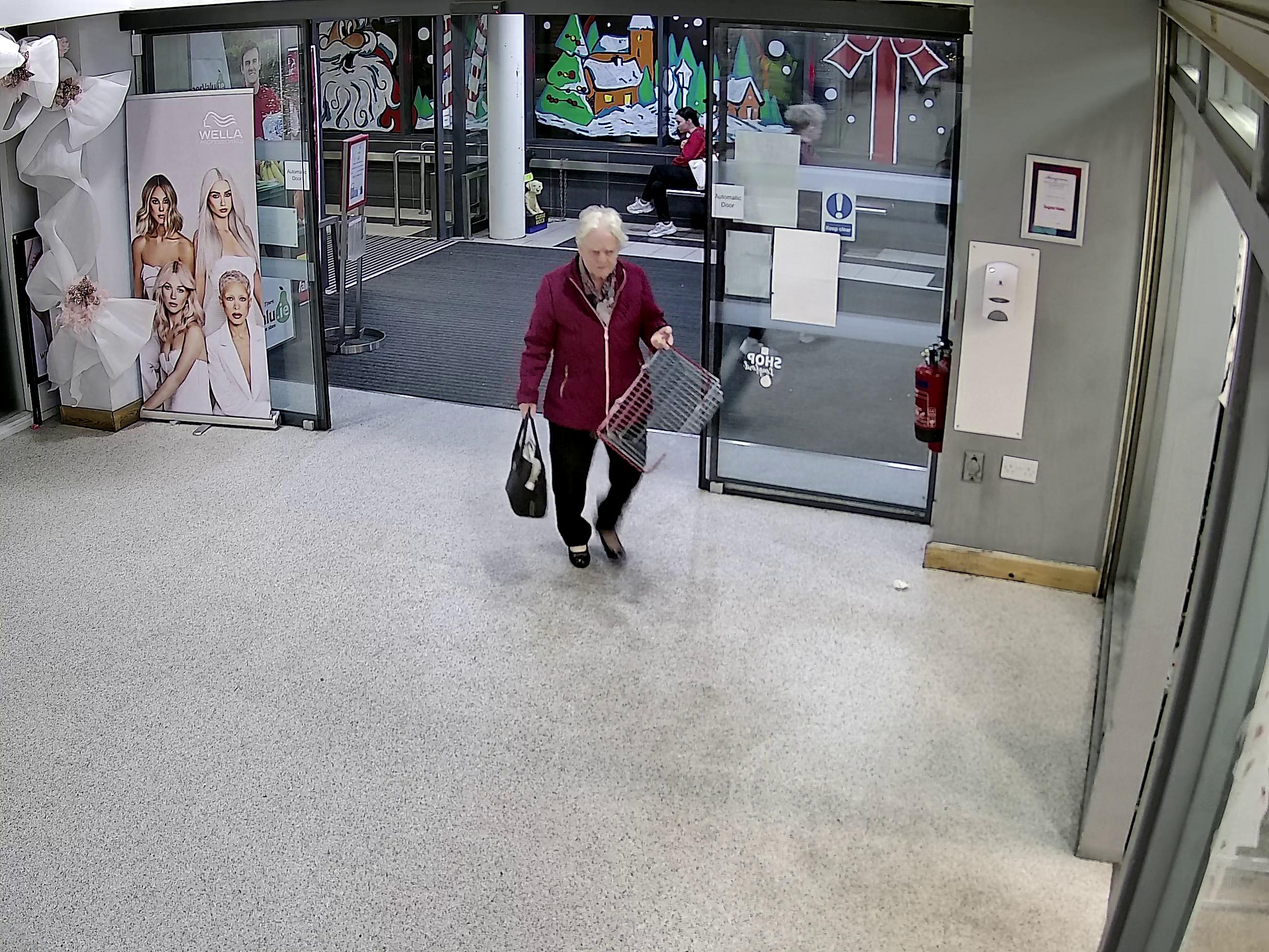backpack-or-handbag: (507, 410, 549, 518)
empty-basket: (594, 343, 724, 483)
person: (515, 206, 674, 567)
person-with-basket-trolly-and-backpack-handbag: (507, 205, 724, 566)
